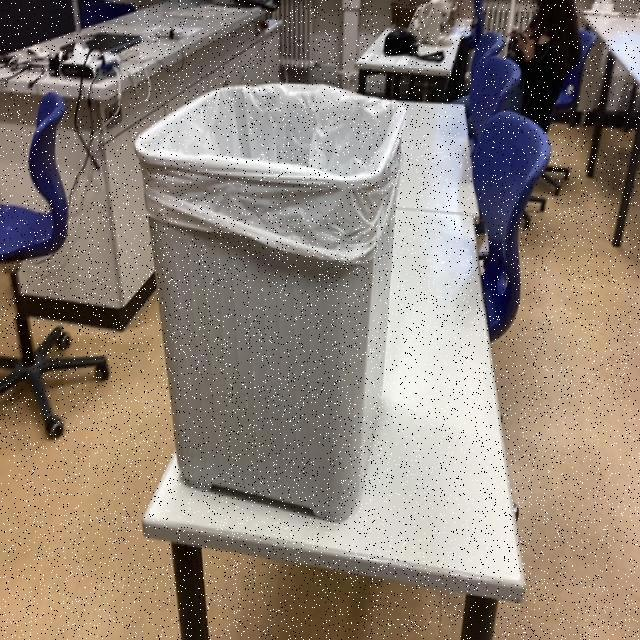garbage container: (120, 65, 417, 538)
